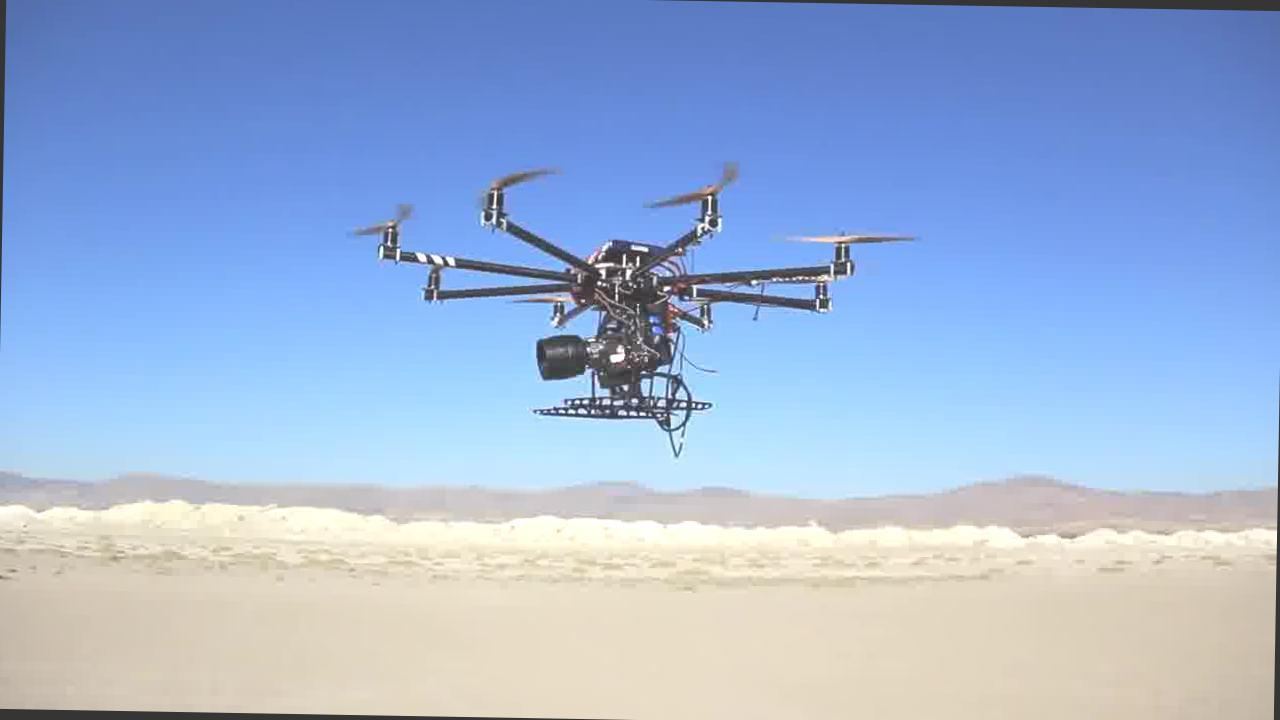drone: (343, 161, 925, 419)
